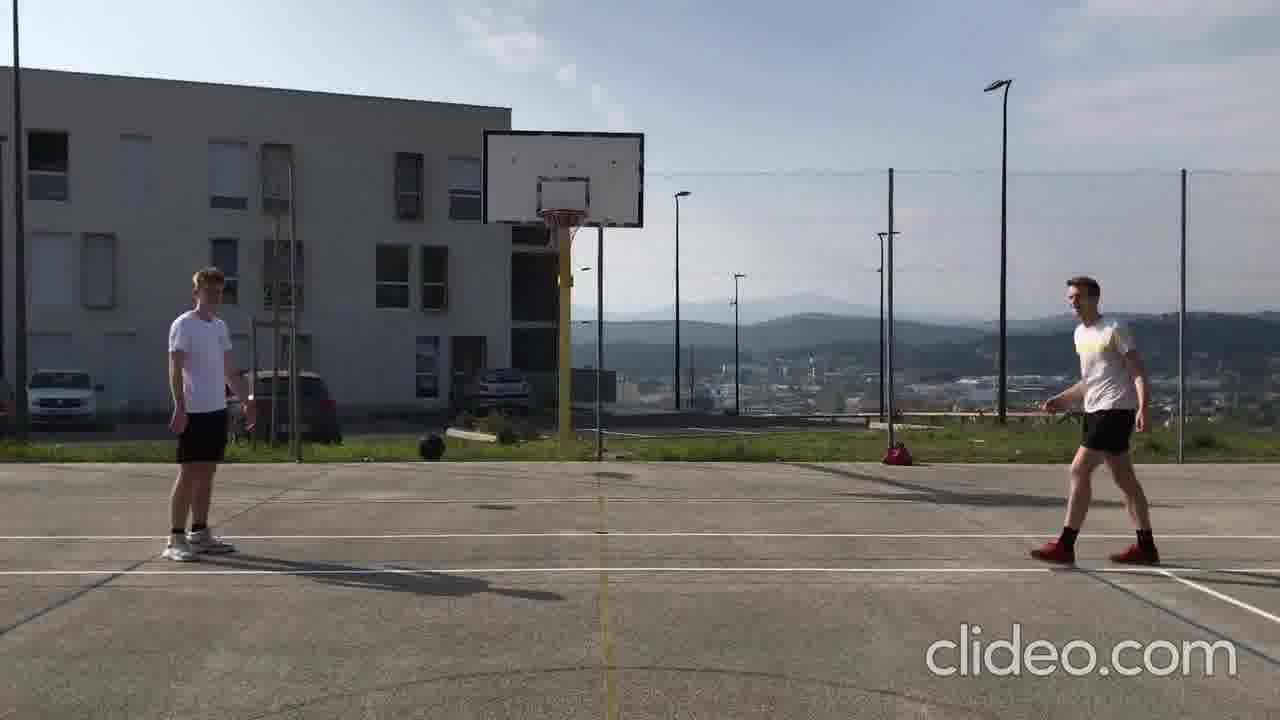jugador: (1022, 267, 1170, 579)
